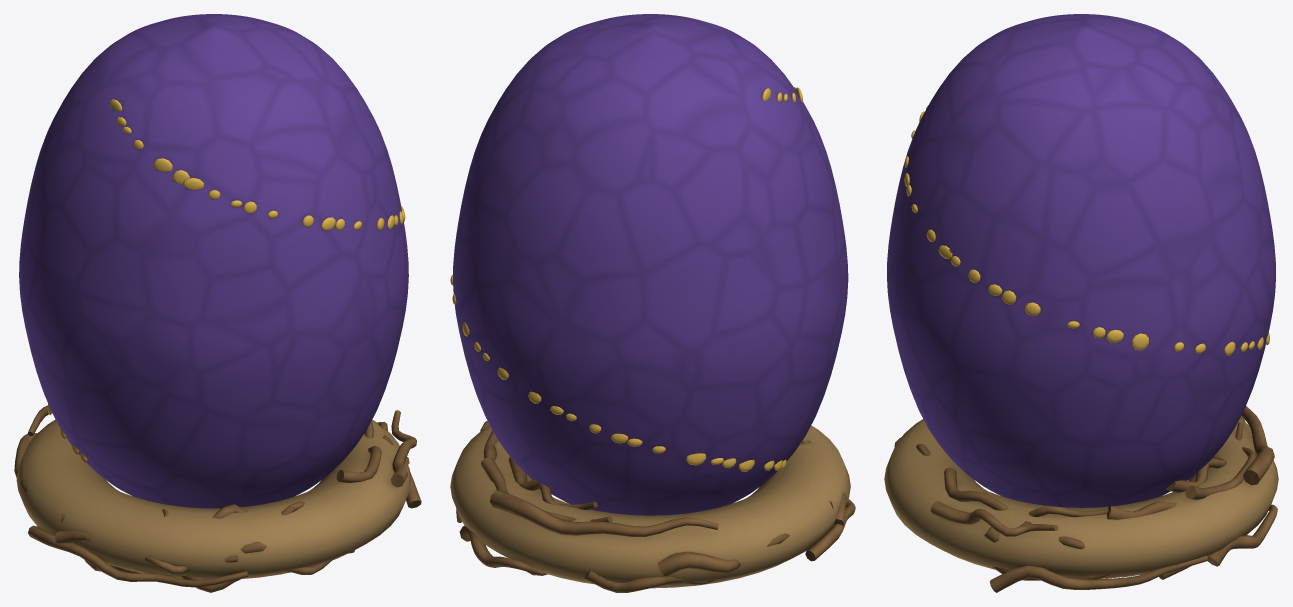
The model's file is piece_dragonegg.fbx.
3 views of the same model, side by side, from view 1: azimuth 30°, elevation 25°; view 2: azimuth 150°, elevation 25°; view 3: azimuth 270°, elevation 25° (orthographic).
Parts seen in each view (by area): view 1: piece_dragonegg; view 2: piece_dragonegg; view 3: piece_dragonegg.
Part boxes in pixels (<box>): piece_dragonegg: <box>14,14,421,592</box>; piece_dragonegg: <box>450,14,855,592</box>; piece_dragonegg: <box>884,14,1278,592</box>.
Size of the model in its own units: 0.1561 by 0.2056 by 0.15.
